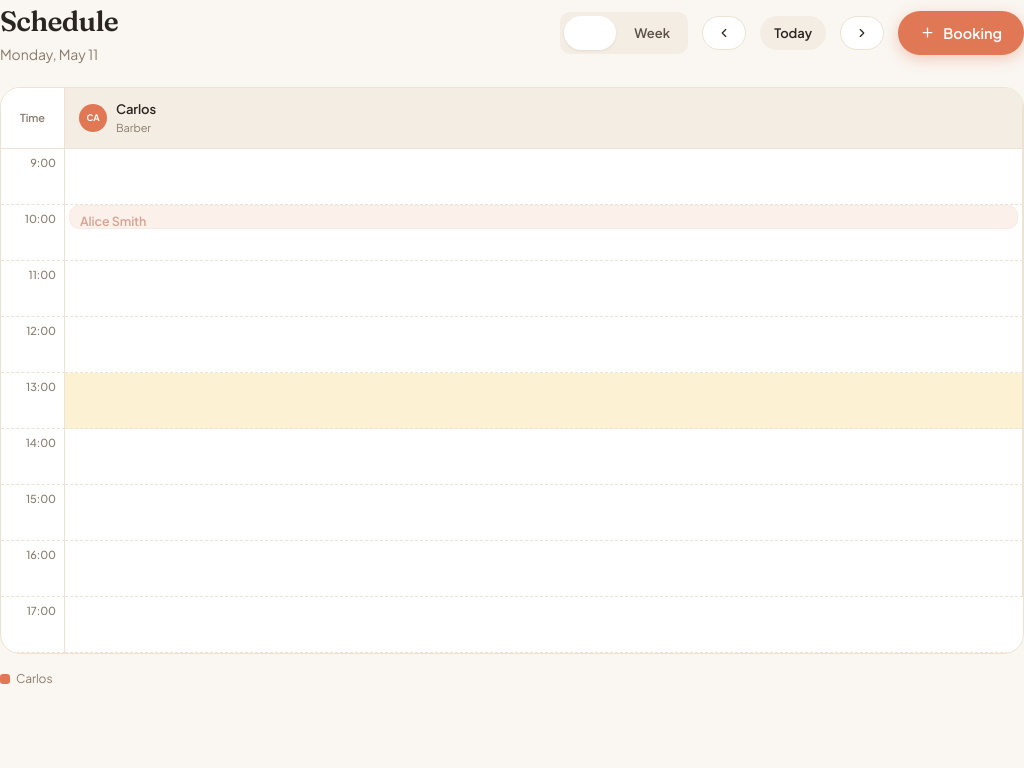
Schedule appointment detail modal › shows only Open in POS + Close for a completed appointment
Click the text "Alice Smith": coordinates (113, 221) [80,213,146,229]
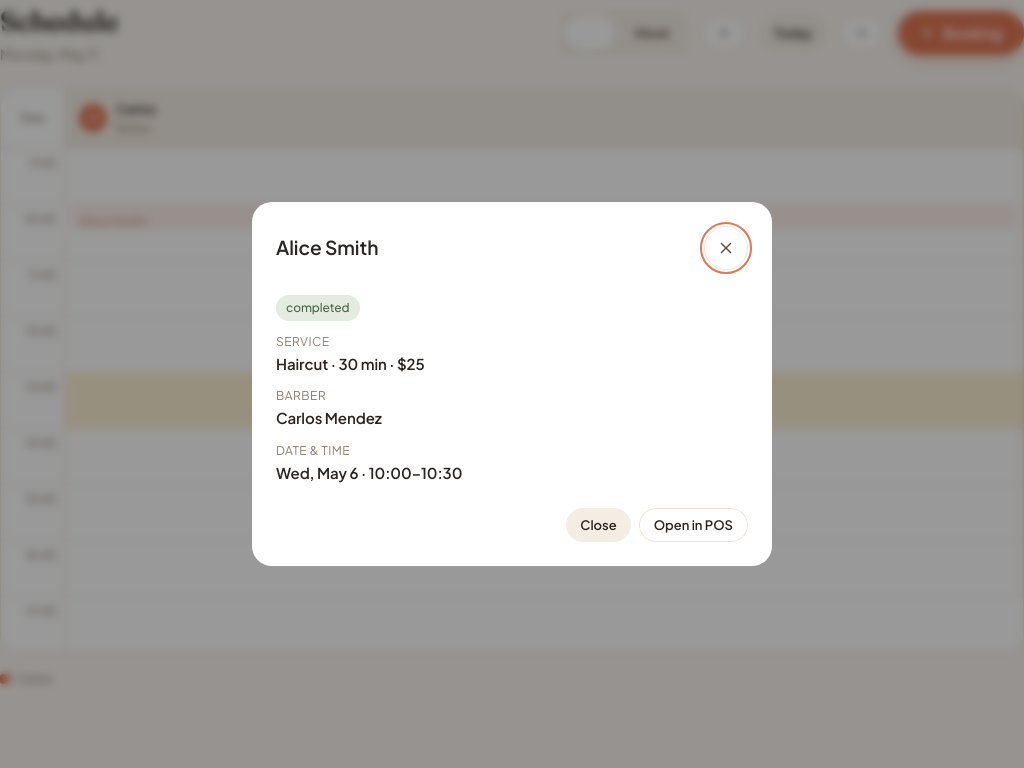
Result: the button "Open in POS" is shown at [639,508,748,542]
